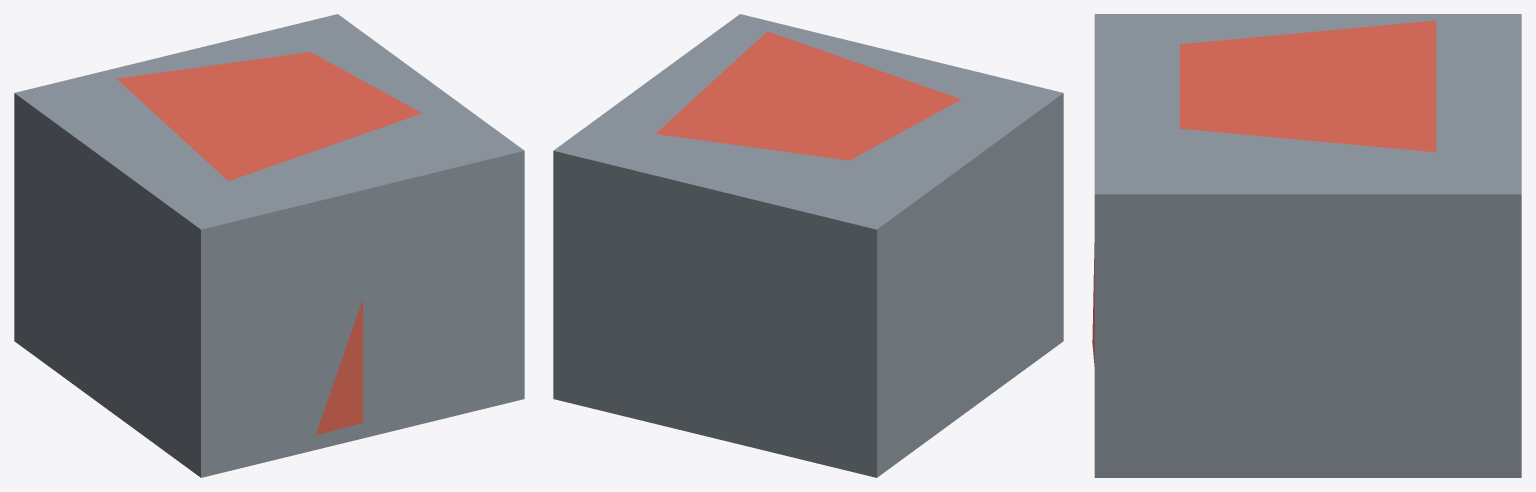
The model's file is SU_TechCenter_LOD1.glb.
3 views of the same model, side by side, from view 1: azimuth 30°, elevation 25°; view 2: azimuth 150°, elevation 25°; view 3: azimuth 270°, elevation 25° (orthographic). The views are drawn at different scales.
Visible parts, largest first — view 1: EntranceGate; view 2: EntranceGate; view 3: EntranceGate.
Boxes of the visible parts, box(x1,y1,x2,y2) form: EntranceGate: box(14, 14, 524, 477); EntranceGate: box(553, 14, 1063, 477); EntranceGate: box(1092, 14, 1521, 477).
Size of the model in its own units: 600 by 486 by 603.
